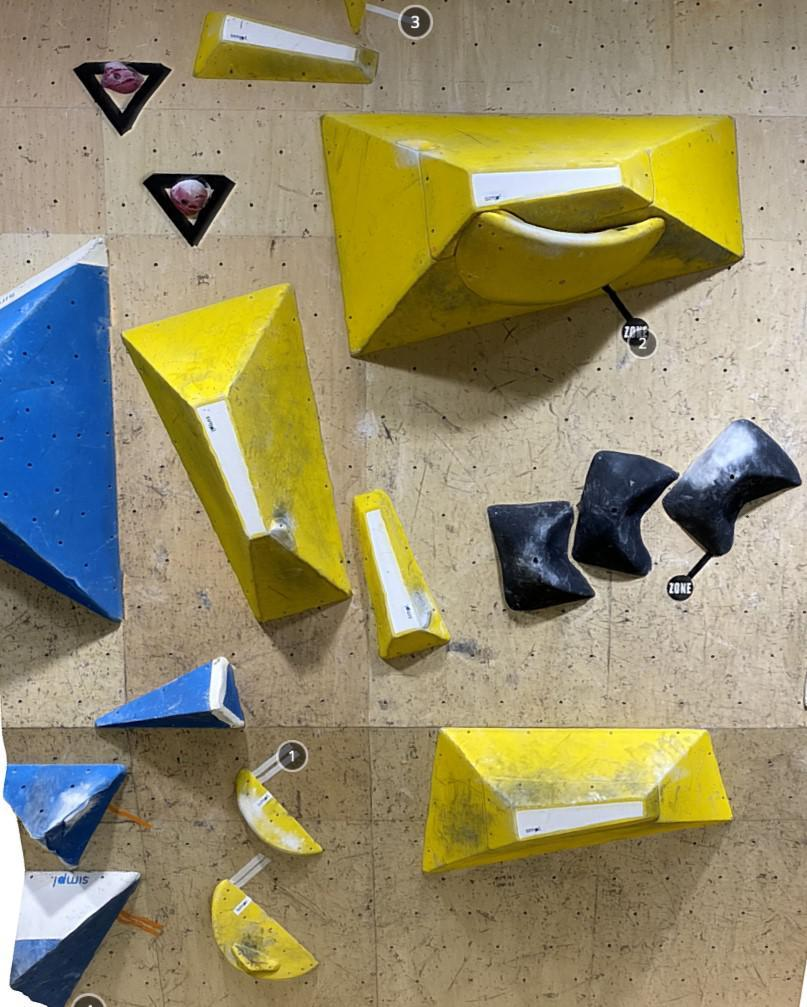hold: (320, 113, 745, 358), (120, 282, 353, 623), (0, 237, 124, 622), (422, 727, 734, 875), (454, 210, 667, 305), (662, 418, 802, 556), (9, 871, 142, 1007), (352, 489, 451, 659), (193, 11, 379, 84), (572, 450, 679, 576), (3, 763, 128, 870), (487, 500, 595, 610), (211, 878, 320, 980), (95, 656, 244, 729), (236, 767, 323, 856), (100, 60, 144, 93), (232, 942, 280, 972), (170, 179, 208, 216), (344, 0, 368, 34)
